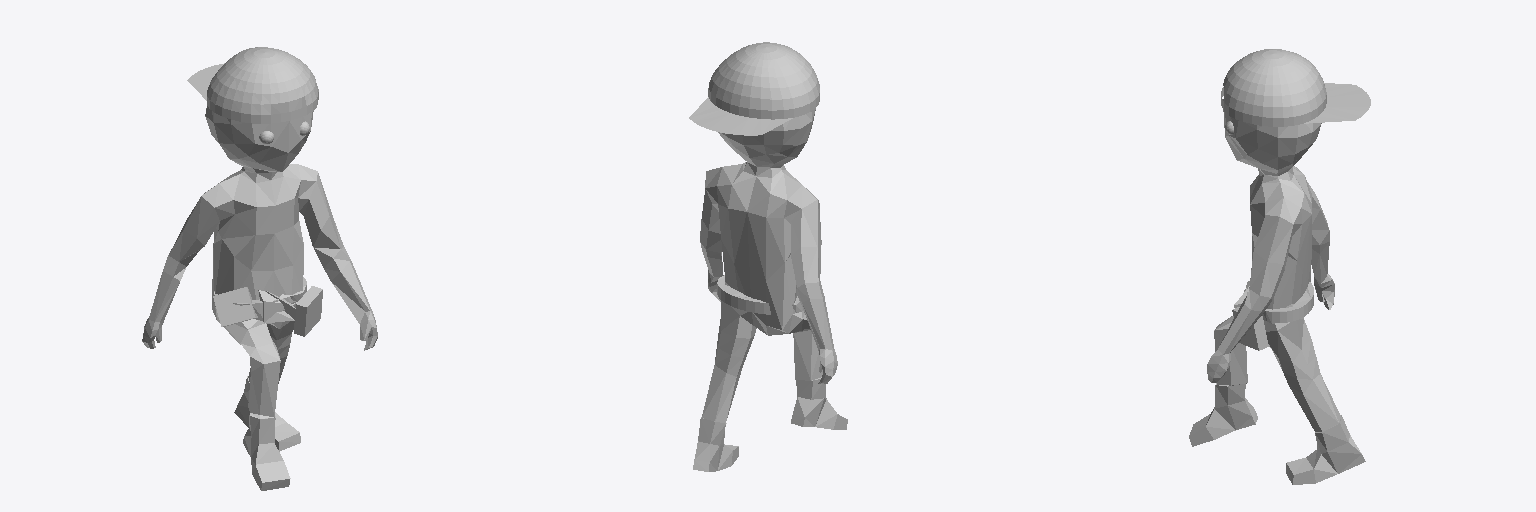
The model's file is Main_Character_Walk_3.obj.
3 renders of one model, left to right at view 1: azimuth 30°, elevation 25°; view 2: azimuth 150°, elevation 25°; view 3: azimuth 270°, elevation 25°, orthographic.
Visible parts, largest first — view 1: Main_Character_Test.003_Main_Character_Test.004; view 2: Main_Character_Test.003_Main_Character_Test.004; view 3: Main_Character_Test.003_Main_Character_Test.004.
Boxes of the visible parts, <box> form: Main_Character_Test.003_Main_Character_Test.004: <box>142,47,377,490</box>; Main_Character_Test.003_Main_Character_Test.004: <box>689,42,847,471</box>; Main_Character_Test.003_Main_Character_Test.004: <box>1189,49,1370,484</box>.
Bounding box in the file's own units: 1.79 × 3.93 × 1.59.